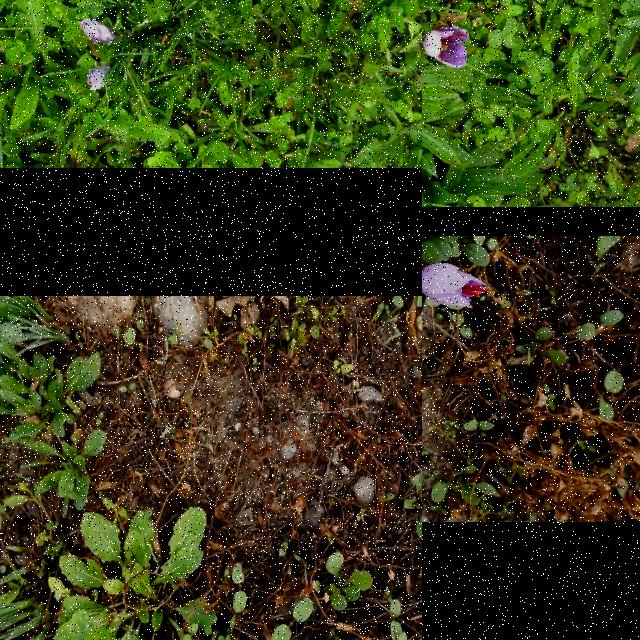flower: (422, 262, 493, 310), (424, 26, 471, 68), (80, 21, 118, 44), (87, 66, 113, 92)
